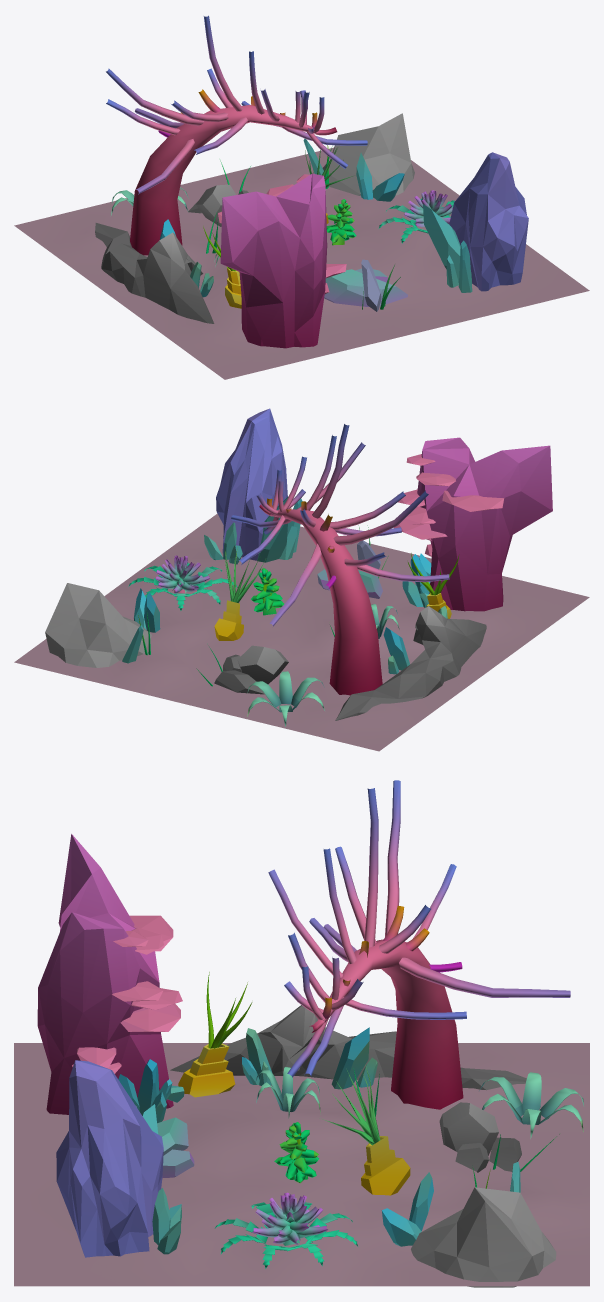
File: Underwater_Example.gltf
3 renders of one model, top to bottom at view 1: azimuth 30°, elevation 25°; view 2: azimuth 150°, elevation 25°; view 3: azimuth 270°, elevation 25°, orthographic. The views are drawn at different scales.
Parts seen in each view (by area): view 1: Plane; view 2: Plane; view 3: Plane.
Boxes of the visible parts, bbox=[...] form: Plane: bbox=[14, 15, 589, 379]; Plane: bbox=[14, 408, 589, 751]; Plane: bbox=[14, 780, 589, 1287].
Size of the model in its own units: 20 by 13.96 by 20.
1 material, 1 textured.
